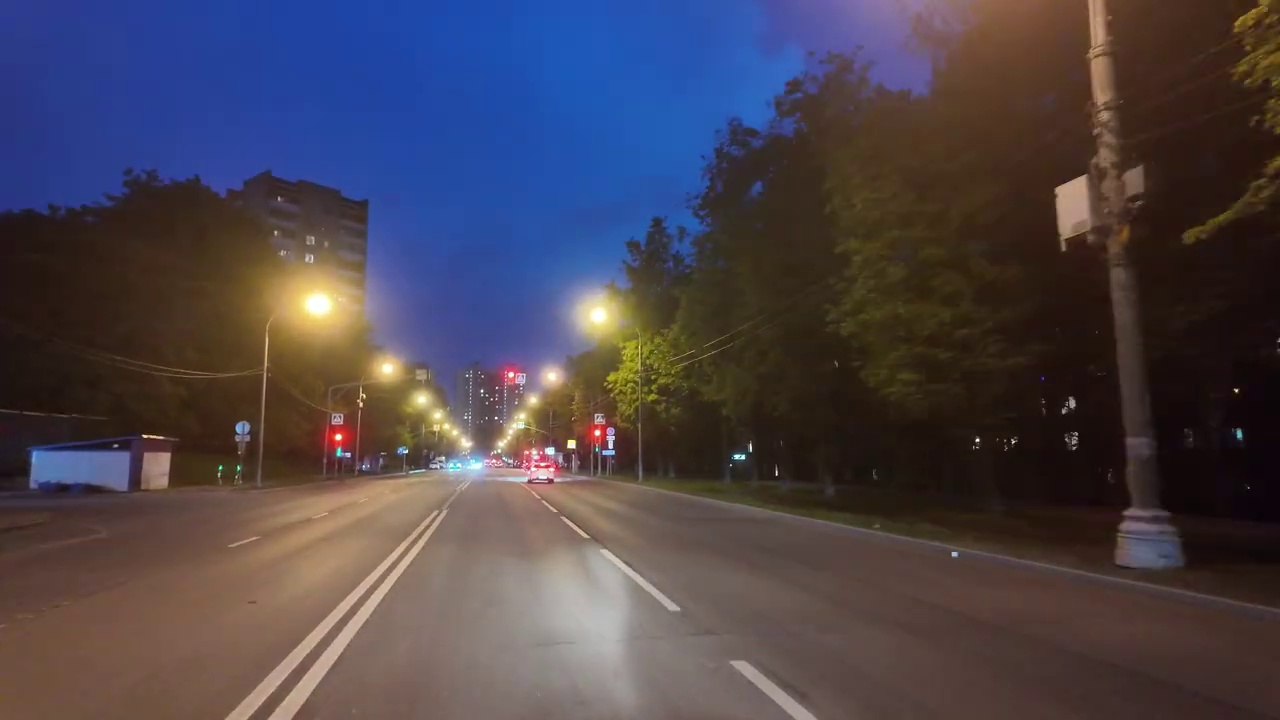acesa: (288, 282, 344, 329), (580, 293, 626, 339), (370, 355, 403, 383), (542, 366, 566, 391)
